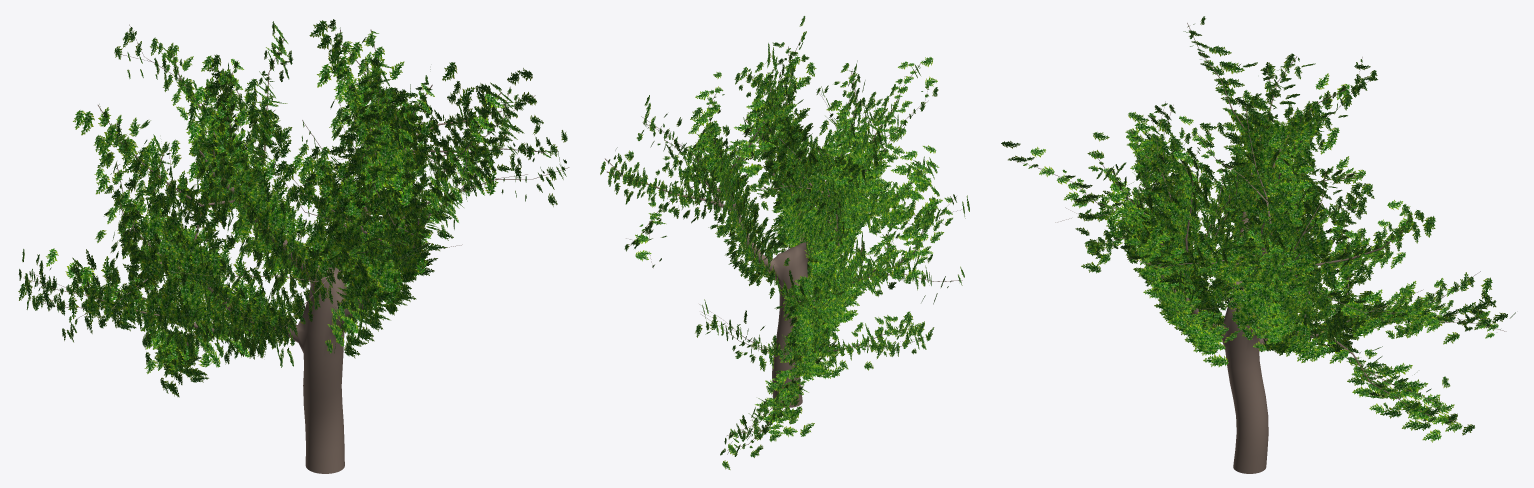
File: tree3.fbx
3 renders of one model, left to right at view 1: azimuth 30°, elevation 25°; view 2: azimuth 150°, elevation 25°; view 3: azimuth 270°, elevation 25°, orthographic. The views are drawn at different scales.
Parts seen in each view (by area): view 1: tree; view 2: tree; view 3: tree.
Boxes of the visible parts, box(x1,y1,x2,y2) form: tree: box(18, 19, 569, 473); tree: box(600, 16, 969, 469); tree: box(1001, 16, 1515, 473).
Size of the model in its own units: 4404 by 4319 by 5186.
